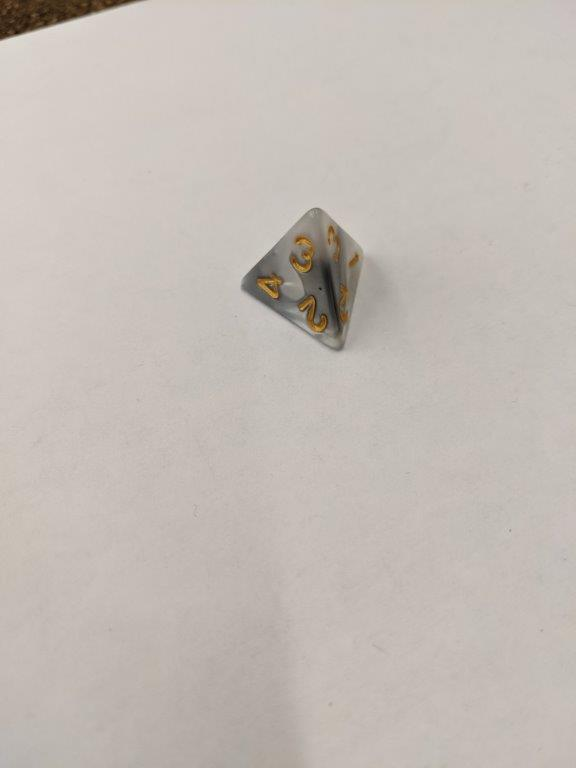d4-3: (236, 202, 368, 355)
